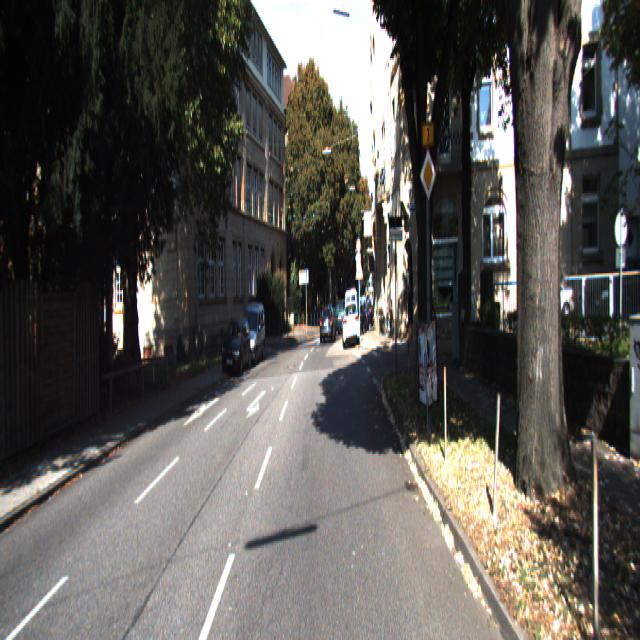Car: (517, 274, 571, 332), (219, 316, 253, 380), (238, 302, 266, 369), (342, 299, 360, 350), (319, 304, 337, 344)
DontCare: (356, 294, 375, 332)
